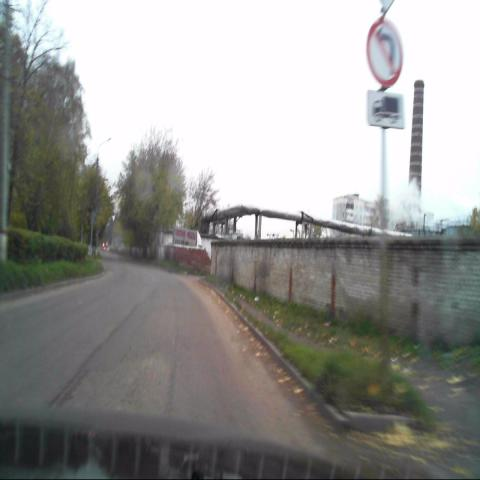3_18_2: (367, 18, 402, 87)
8_4_1: (366, 90, 404, 128)
